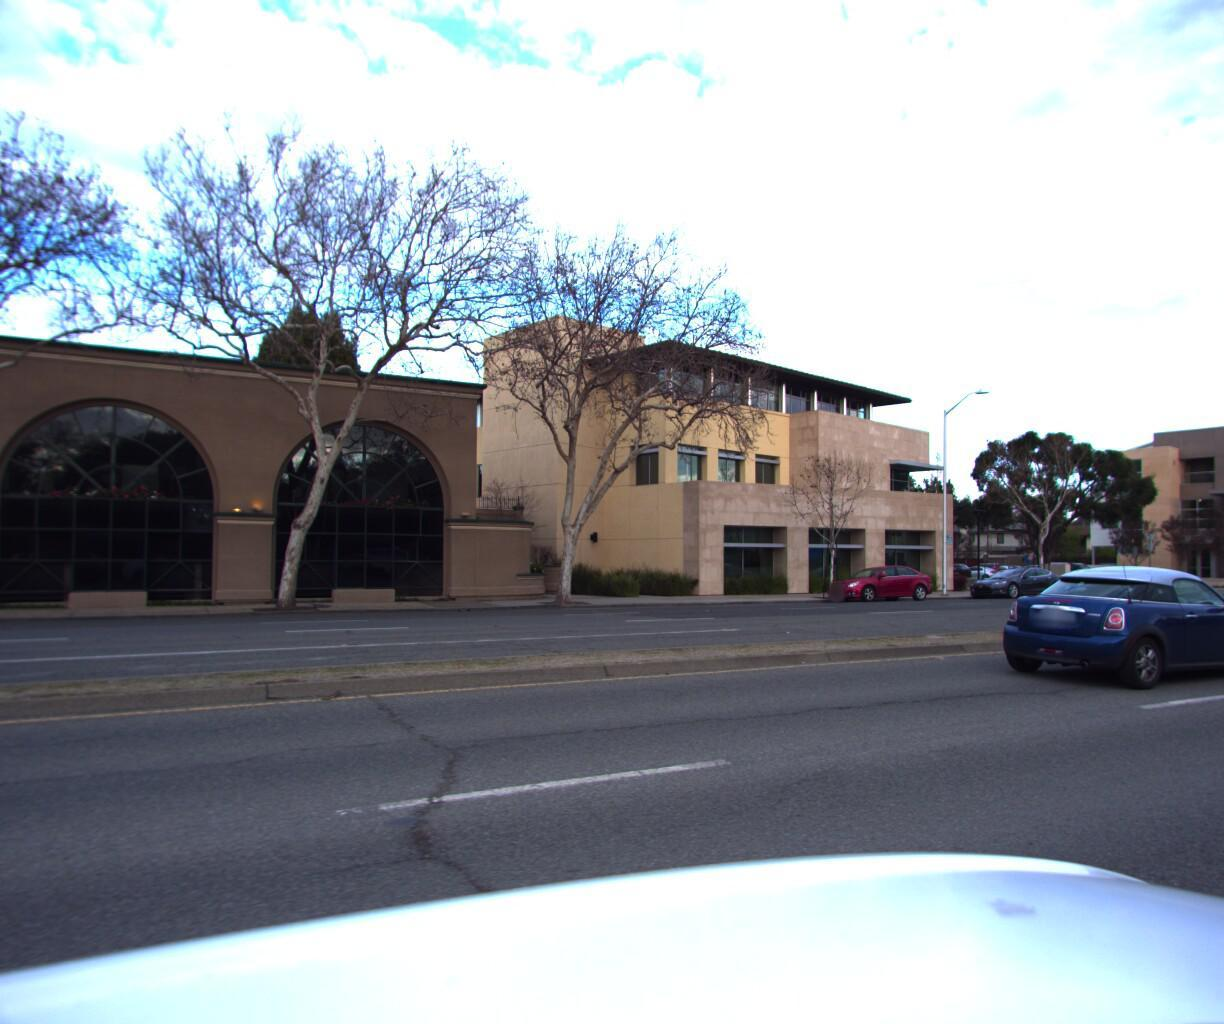car: (982, 560, 1224, 695), (816, 559, 938, 599), (959, 560, 1066, 596)
